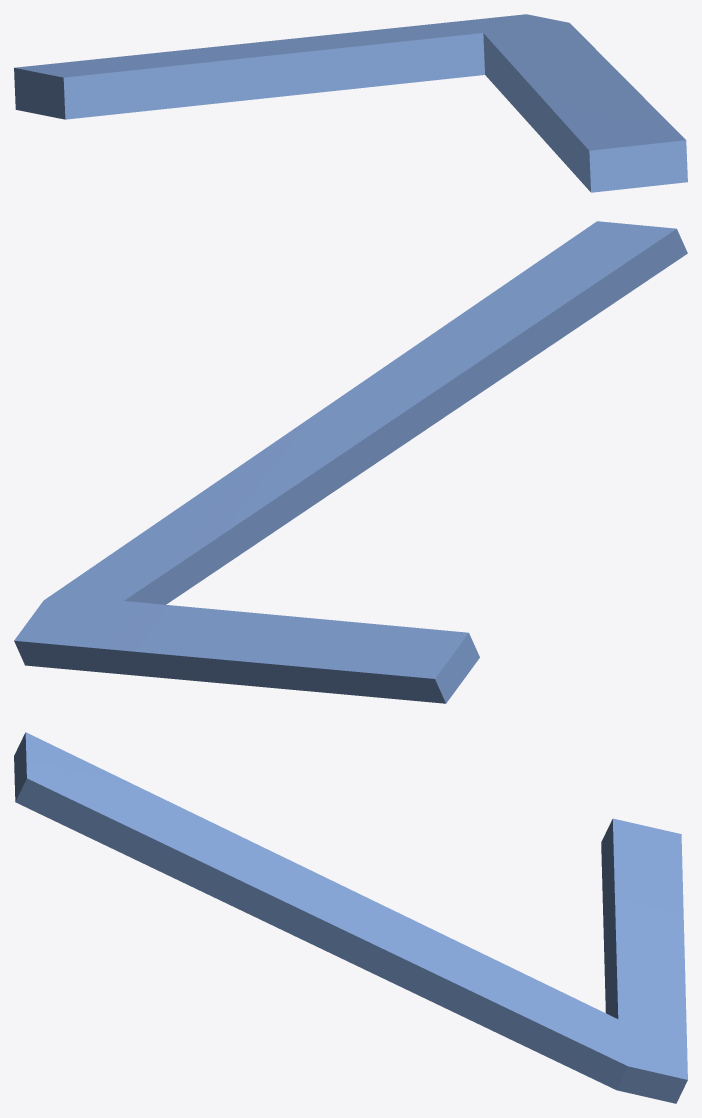
File: New_Number_7.gltf
The picture shows the model from 3 angles, top to bottom: view 1: azimuth 30°, elevation 25°; view 2: azimuth 150°, elevation 25°; view 3: azimuth 270°, elevation 25°; orthographic projection. The views are drawn at different scales.
Visible parts, largest first — view 1: Part 655; view 2: Part 655; view 3: Part 655.
Part boxes in pixels (x1,y1,x2,y2): Part 655: (14, 14, 687, 192); Part 655: (14, 221, 687, 703); Part 655: (14, 732, 687, 1103).
Bounding box in the file's own units: 0.00369 × 0.00211 × 0.00546.
